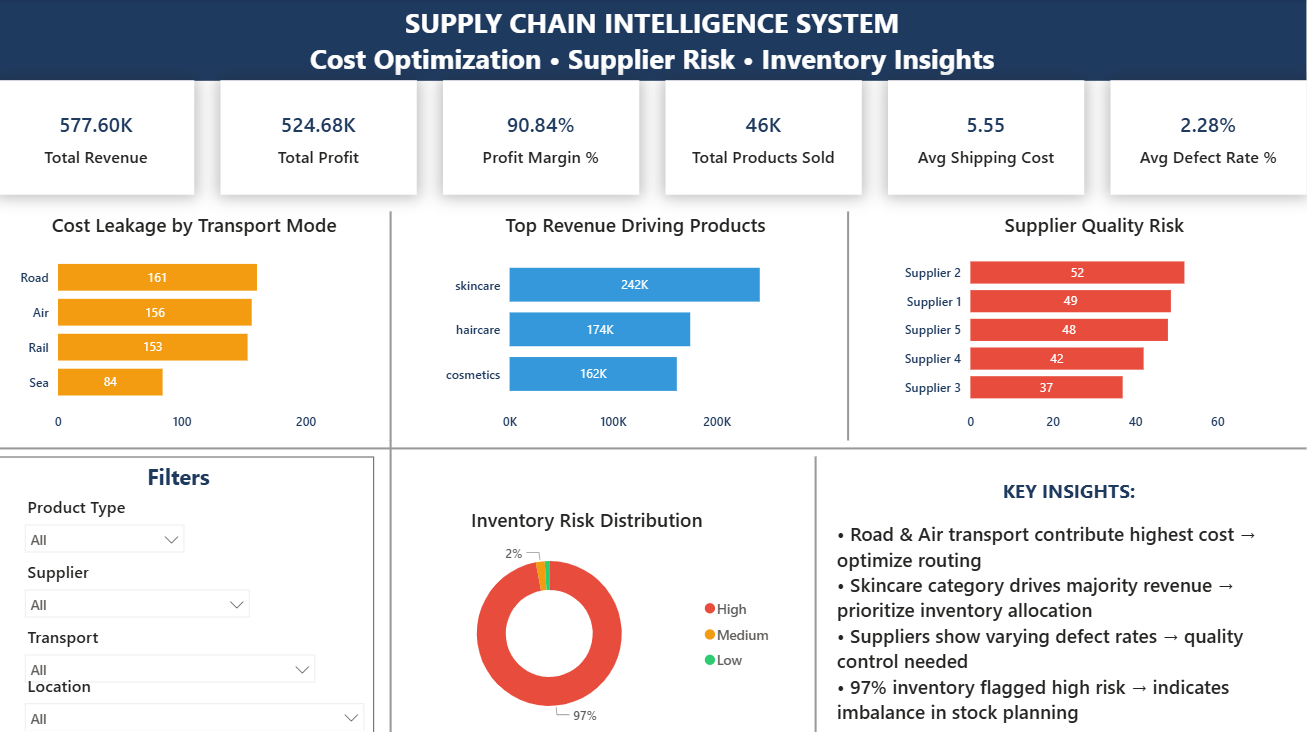

Layout of this report page (visuals, bound fields, positions):
{"tool":"powerbi","page":{"name":"Executive Dashboard","canvas":[1280,720],"ordinal":0},"visuals":[{"type":"textbox","box":[0,0,1280,80],"z":0},{"type":"card","fields":{"Values":["cleaned_supply_chain.Total Revenue"]},"box":[0,80,192,112],"z":1000},{"type":"card","fields":{"Values":["cleaned_supply_chain.Total Profit"]},"box":[217.6,80,192,112],"z":2000},{"type":"card","fields":{"Values":["cleaned_supply_chain.Profit Margin %"]},"box":[435.2,80,192,112],"z":3000},{"type":"card","fields":{"Values":["cleaned_supply_chain.Total Products Sold"]},"box":[652.8,80,192,112],"z":4000},{"type":"card","fields":{"Values":["cleaned_supply_chain.Avg Shipping Cost"]},"box":[870.4,80,192,112],"z":5000},{"type":"card","fields":{"Values":["cleaned_supply_chain.Avg Defect Rate"]},"box":[1088,80,192,112],"z":6000},{"type":"clusteredBarChart","title":"Cost Leakage by Transport Mode","fields":{"Y":["Sum(cleaned_supply_chain.shipping_costs)","select","select1"],"Category":["cleaned_supply_chain.transportation_modes"]},"box":[16,208,352,224],"z":7000},{"type":"clusteredBarChart","title":"Top Revenue Driving Products","fields":{"Category":["cleaned_supply_chain.product_type"],"Y":["Sum(cleaned_supply_chain.revenue_generated)"]},"box":[432,208,384,224],"z":8000},{"type":"clusteredBarChart","title":"Supplier Quality Risk","fields":{"Category":["cleaned_supply_chain.supplier_name"],"Y":["Sum(cleaned_supply_chain.defect_rates)"]},"box":[880,208,384,224],"z":9000},{"type":"donutChart","title":"Inventory Risk Distribution","fields":{"Category":["cleaned_supply_chain.Inventory Risk Final"],"Y":["CountNonNull(cleaned_supply_chain.sku)"]},"box":[384,496,384,224],"z":10000},{"type":"shape","box":[0,448,368,272],"z":11000},{"type":"textbox","box":[816,464,464,256],"z":12000},{"type":"textbox","box":[128,448,96,64],"z":13000},{"type":"slicer","fields":{"Values":["cleaned_supply_chain.product_type"]},"box":[16,480,176,64],"z":14000},{"type":"slicer","fields":{"Values":["cleaned_supply_chain.supplier_name"]},"box":[16,544,240,64],"z":15000},{"type":"slicer","fields":{"Values":["cleaned_supply_chain.transportation_modes"]},"box":[16,608,304,64],"z":16000},{"type":"slicer","fields":{"Values":["cleaned_supply_chain.location"]},"box":[16,656,352,64],"z":17000},{"type":"shape","box":[0,432,1280,16],"z":17001},{"type":"shape","box":[368,208,32,224],"z":17002},{"type":"shape","box":[816,208,32,224],"z":17003},{"type":"shape","box":[784,448,32,272],"z":17004},{"type":"shape","box":[368,432,32,288],"z":17005}]}

Visuals, with their boxes in screenshot pixels (x1, y1, x2, y2), scaled from the page's 1280x720 canvas onto the 1307x732 screenshot:
textbox: BBox(0, 0, 1306, 81)
card - cleaned_supply_chain.Total Revenue: BBox(0, 81, 196, 195)
card - cleaned_supply_chain.Total Profit: BBox(222, 81, 418, 195)
card - cleaned_supply_chain.Profit Margin %: BBox(444, 81, 640, 195)
card - cleaned_supply_chain.Total Products Sold: BBox(667, 81, 863, 195)
card - cleaned_supply_chain.Avg Shipping Cost: BBox(889, 81, 1085, 195)
card - cleaned_supply_chain.Avg Defect Rate: BBox(1111, 81, 1306, 195)
"Cost Leakage by Transport Mode" clusteredBarChart: BBox(16, 211, 376, 439)
"Top Revenue Driving Products" clusteredBarChart: BBox(441, 211, 833, 439)
"Supplier Quality Risk" clusteredBarChart: BBox(899, 211, 1291, 439)
"Inventory Risk Distribution" donutChart: BBox(392, 504, 784, 731)
shape: BBox(0, 455, 376, 731)
textbox: BBox(833, 472, 1306, 731)
textbox: BBox(131, 455, 229, 521)
slicer - cleaned_supply_chain.product_type: BBox(16, 488, 196, 553)
slicer - cleaned_supply_chain.supplier_name: BBox(16, 553, 261, 618)
slicer - cleaned_supply_chain.transportation_modes: BBox(16, 618, 327, 683)
slicer - cleaned_supply_chain.location: BBox(16, 667, 376, 731)
shape: BBox(0, 439, 1306, 455)
shape: BBox(376, 211, 408, 439)
shape: BBox(833, 211, 866, 439)
shape: BBox(801, 455, 833, 731)
shape: BBox(376, 439, 408, 731)
